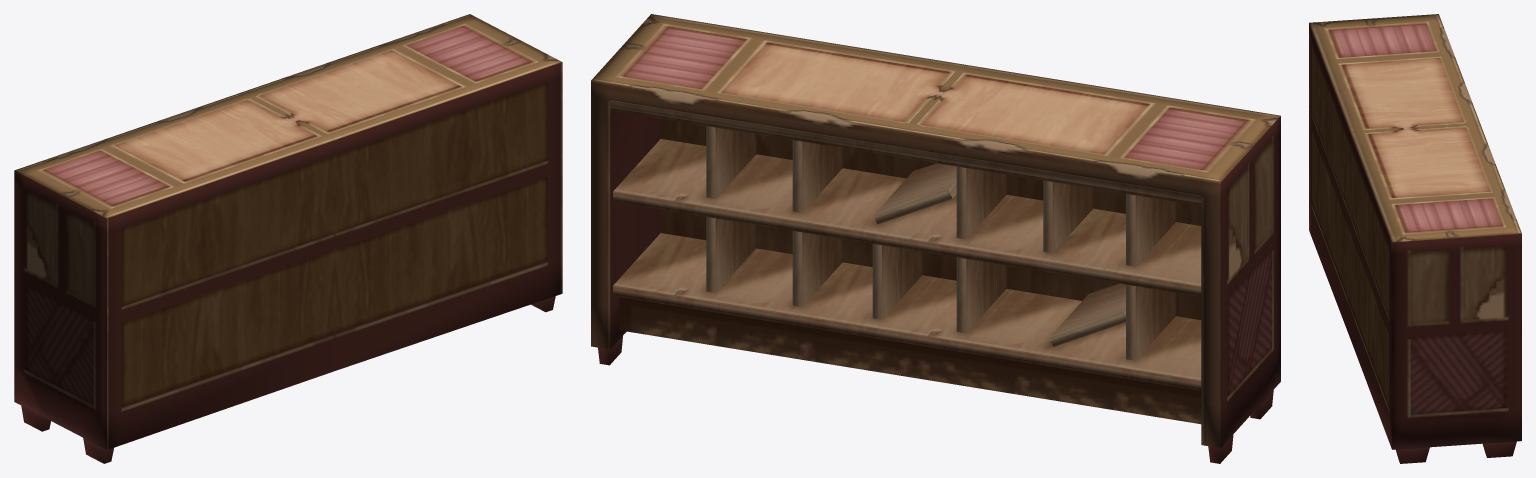
Rendered from a_SWGfoot01b03.glb.
3 renders of one model, left to right at view 1: azimuth 30°, elevation 25°; view 2: azimuth 150°, elevation 25°; view 3: azimuth 270°, elevation 25°, orthographic. The views are drawn at different scales.
Visible parts, largest first — view 1: a_SWGfoot01b03; view 2: a_SWGfoot01b03; view 3: a_SWGfoot01b03.
Part boxes in pixels (x1,y1,x2,y2): a_SWGfoot01b03: [14, 14, 562, 463]; a_SWGfoot01b03: [591, 14, 1280, 463]; a_SWGfoot01b03: [1309, 14, 1521, 463].
Size of the model in its own units: 2.88 by 1.32 by 1.13.
Materials: 1 (1 with a texture image).
